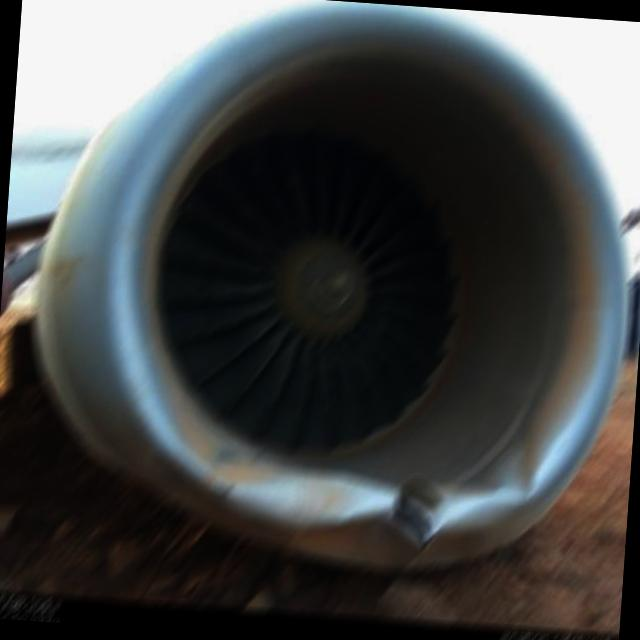dent: (224, 456, 396, 536), (492, 442, 544, 510)
